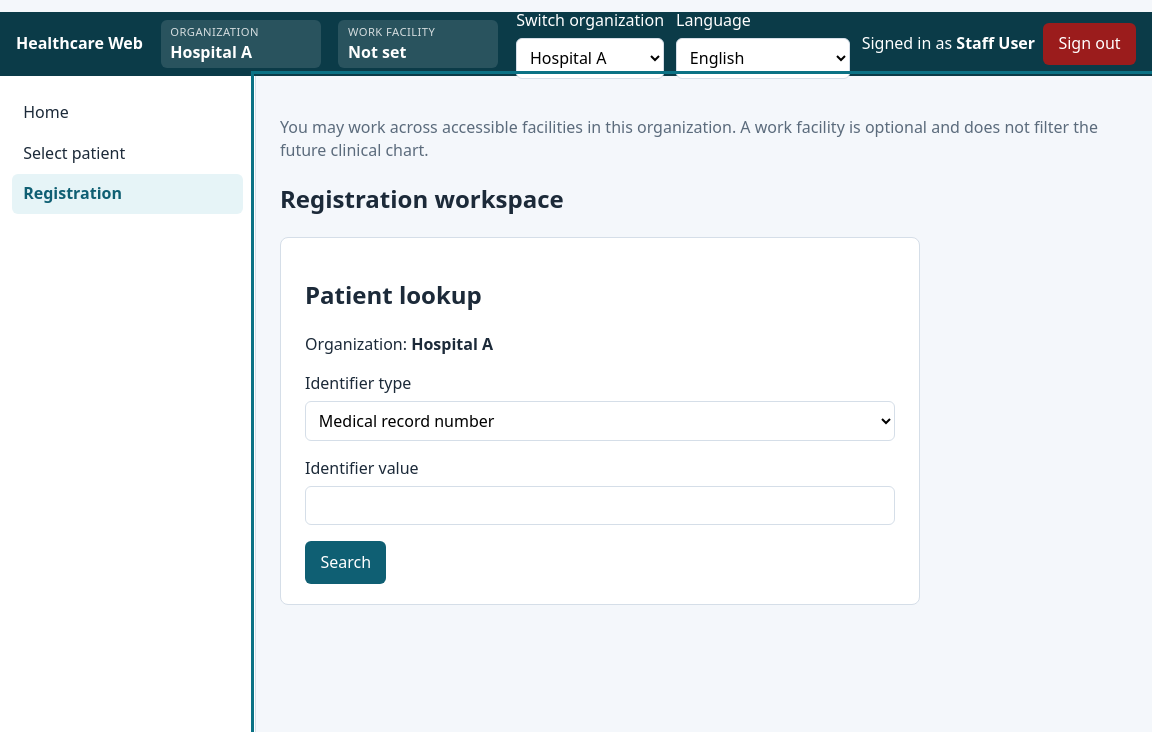
Scenario: patient lookup hardening › propagates AbortSignal to fetch and drops stale A after org switch
The width and height of the screenshot is (1152, 732).
Type "MRN-HARDEN-0001" into the field labelled "Identifier value" at (600, 506), box [305,486,895,525]
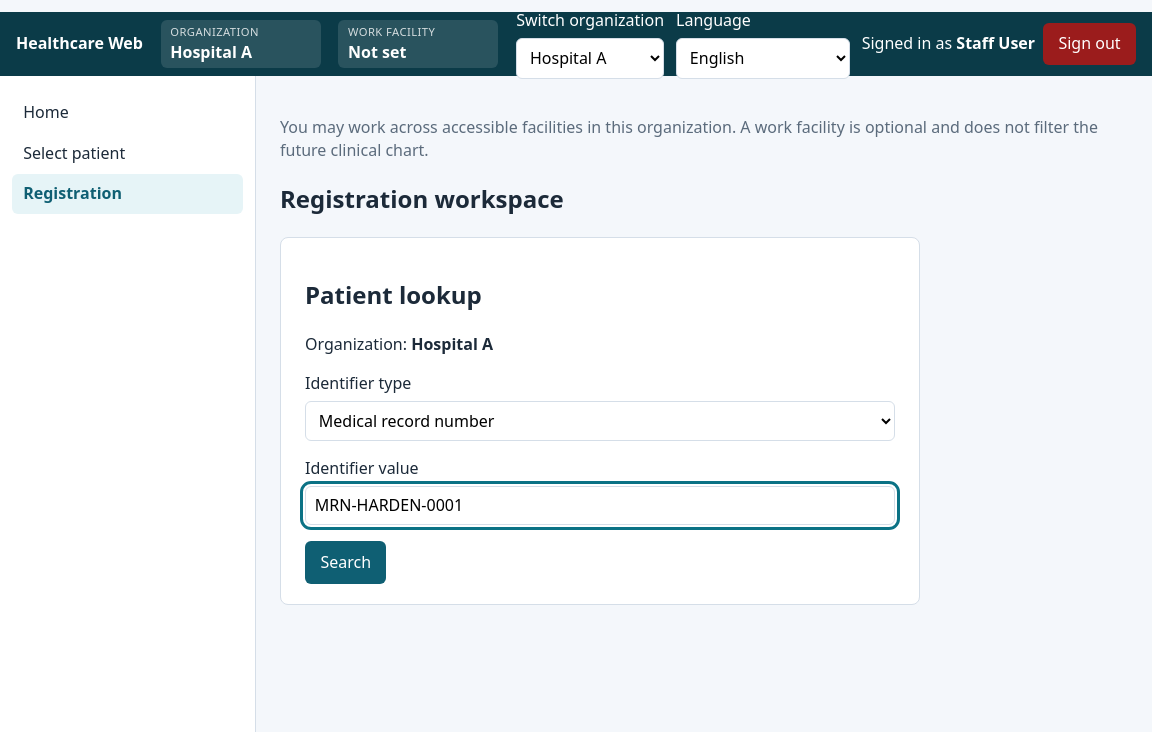
Click the button "Search" at (346, 563), box [305,541,386,584]
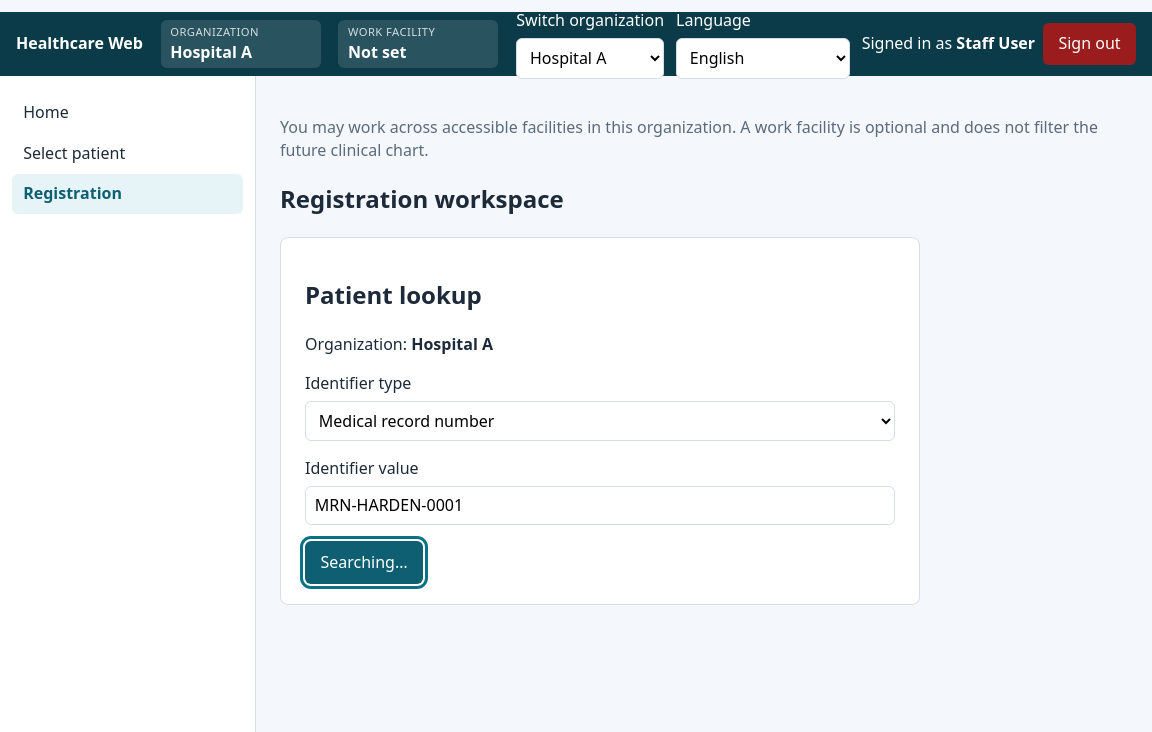
Select "Hospital B" in the dropdown labelled "Switch organization" at (590, 58), box [516,38,664,79]
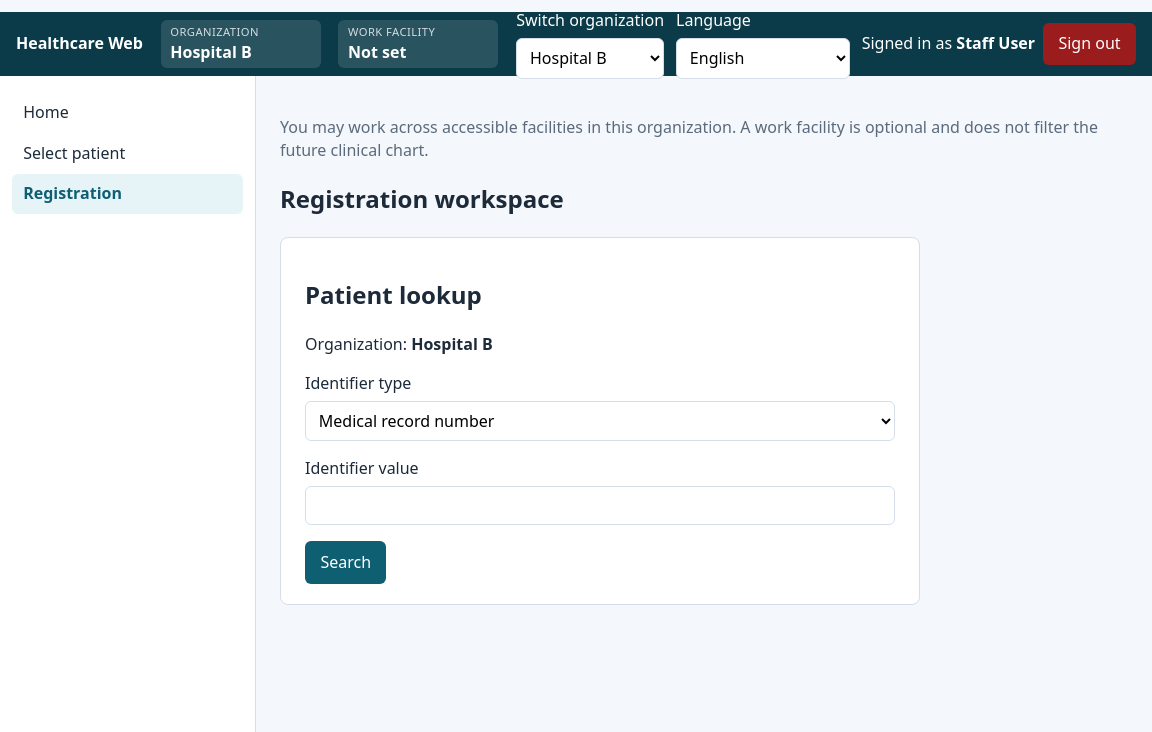
Now the element with test id "active-organization" shows "Hospital B", box [170,40,252,62]
